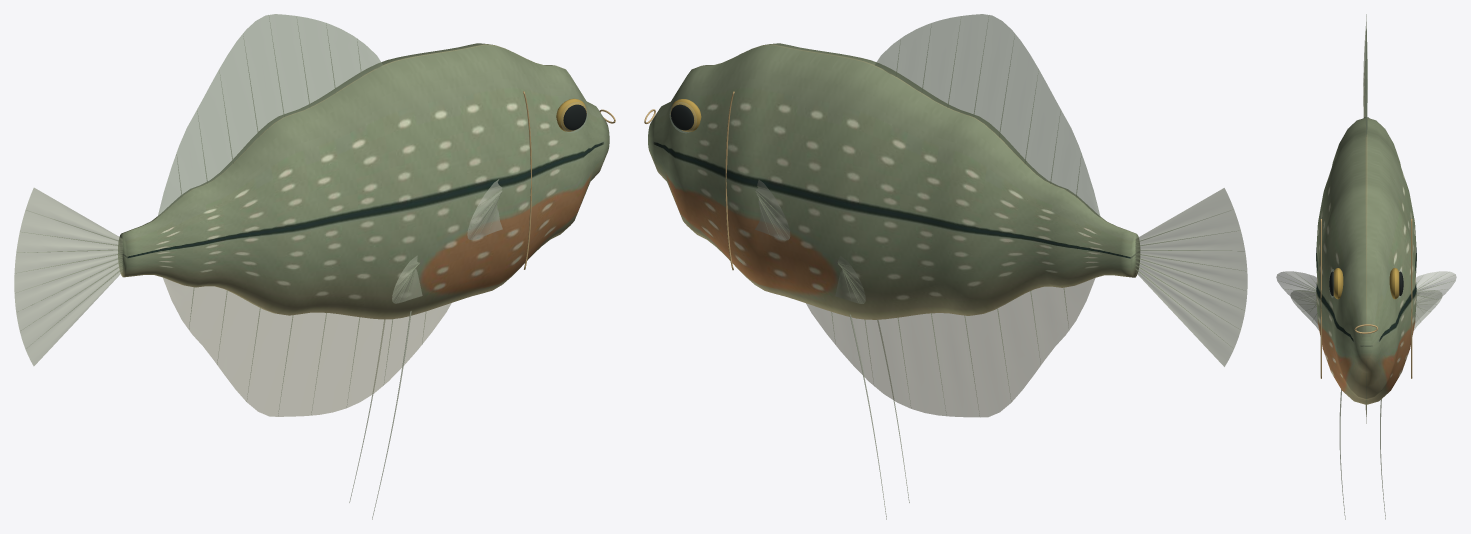
File: pearlgourami-mobile.glb
The picture shows the model from 3 angles, left to right: view 1: azimuth 30°, elevation 25°; view 2: azimuth 150°, elevation 25°; view 3: azimuth 270°, elevation 25°; orthographic projection. The views are drawn at different scales.
Visible parts, largest first — view 1: skin, anal, dorsal, tail, dorsal-ray, pelvic-left, pectoral-left; view 2: skin, anal, dorsal, tail, dorsal-ray, pelvic-left, pectoral-left; view 3: skin, pectoral-left, pelvic-left, operculum, eye-iris--1, dorsal, dorsal-ray, tail.
Part boxes in pixels (left/top/right/bottom): skin: left=118, top=43, right=609, bottom=319; anal: left=163, top=278, right=451, bottom=416; dorsal: left=157, top=14, right=382, bottom=216; tail: left=14, top=188, right=122, bottom=365; dorsal-ray: left=16, top=16, right=501, bottom=415; pelvic-left: left=349, top=255, right=422, bottom=519; pectoral-left: left=467, top=179, right=502, bottom=240; skin: left=648, top=43, right=1139, bottom=319; anal: left=806, top=278, right=1095, bottom=417; dorsal: left=875, top=14, right=1100, bottom=217; tail: left=1135, top=188, right=1247, bottom=366; dorsal-ray: left=755, top=17, right=1244, bottom=405; pelvic-left: left=835, top=256, right=909, bottom=519; pectoral-left: left=755, top=180, right=790, bottom=240; skin: left=1316, top=117, right=1416, bottom=404; pectoral-left: left=1276, top=271, right=1456, bottom=324; pelvic-left: left=1290, top=290, right=1442, bottom=519; operculum: left=1320, top=219, right=1412, bottom=378; eye-iris--1: left=1333, top=268, right=1399, bottom=299; dorsal: left=1365, top=14, right=1367, bottom=136; dorsal-ray: left=1279, top=47, right=1453, bottom=321; tail: left=1363, top=22, right=1366, bottom=117.
Size of the model in its own units: 0.5852 by 0.4863 by 0.1718.
Materials: 11 (1 with a texture image).
